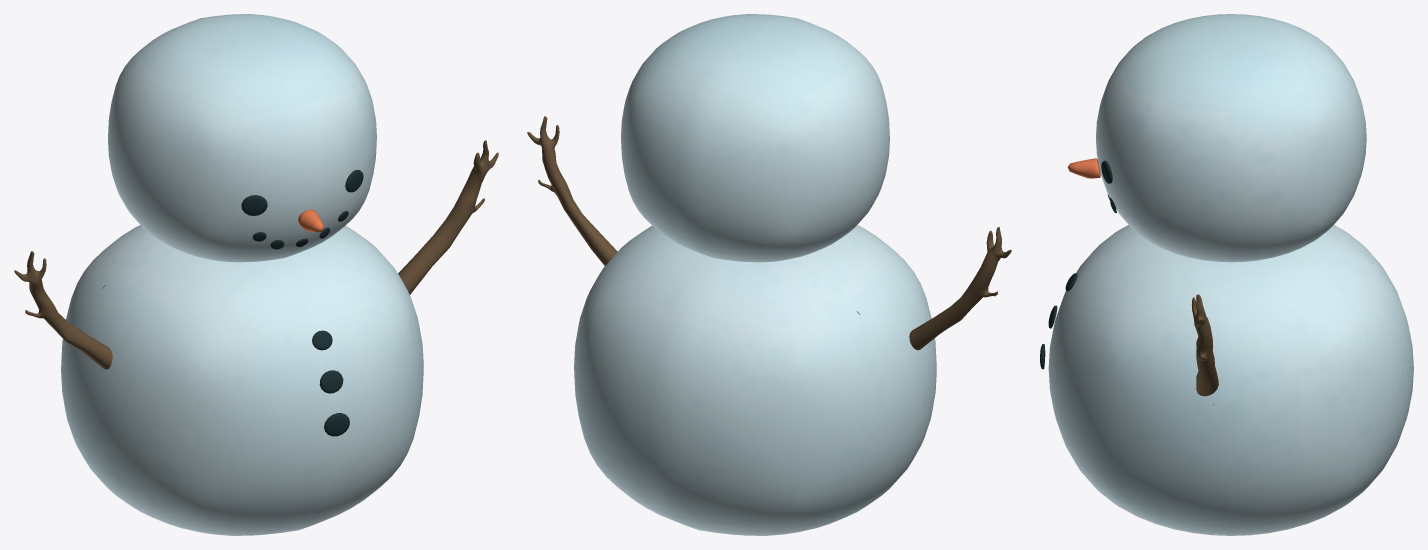
The model's file is frosty.glb.
The picture shows the model from 3 angles, left to right: view 1: azimuth 30°, elevation 25°; view 2: azimuth 150°, elevation 25°; view 3: azimuth 270°, elevation 25°; orthographic projection.
Parts seen in each view (by area): view 1: snowy; view 2: snowy; view 3: snowy.
Part boxes in pixels (x1,y1,x2,y2): snowy: [14, 14, 498, 535]; snowy: [527, 14, 1011, 535]; snowy: [1040, 14, 1413, 535].
Bounding box in the file's own units: 3 × 2.82 × 2.01.
1 material, 1 textured.
